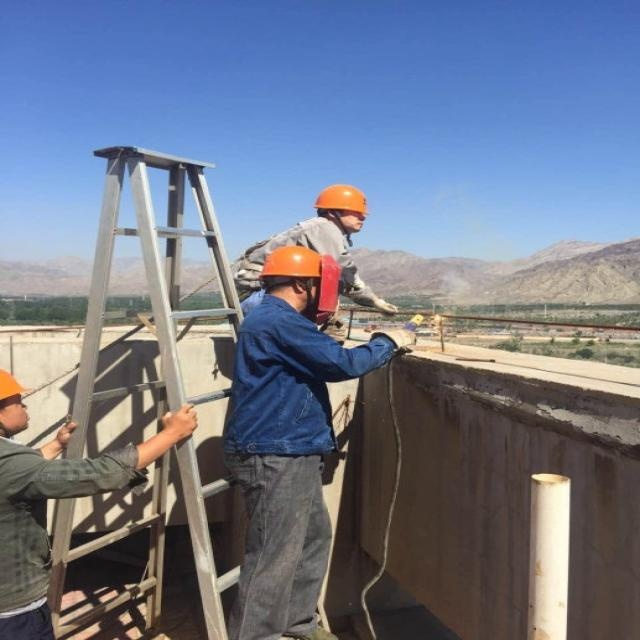Con_Casco: (312, 187, 369, 228)
